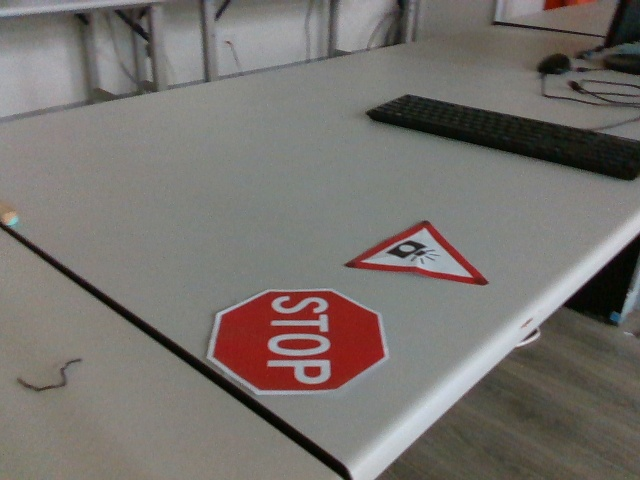camera: (347, 216, 491, 292)
stop: (202, 286, 391, 396)
